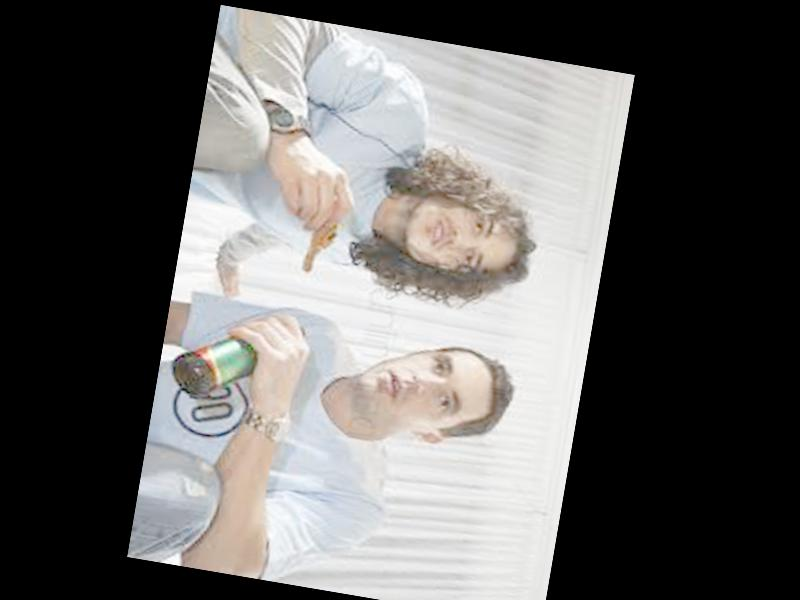Beer: (165, 306, 307, 416)
